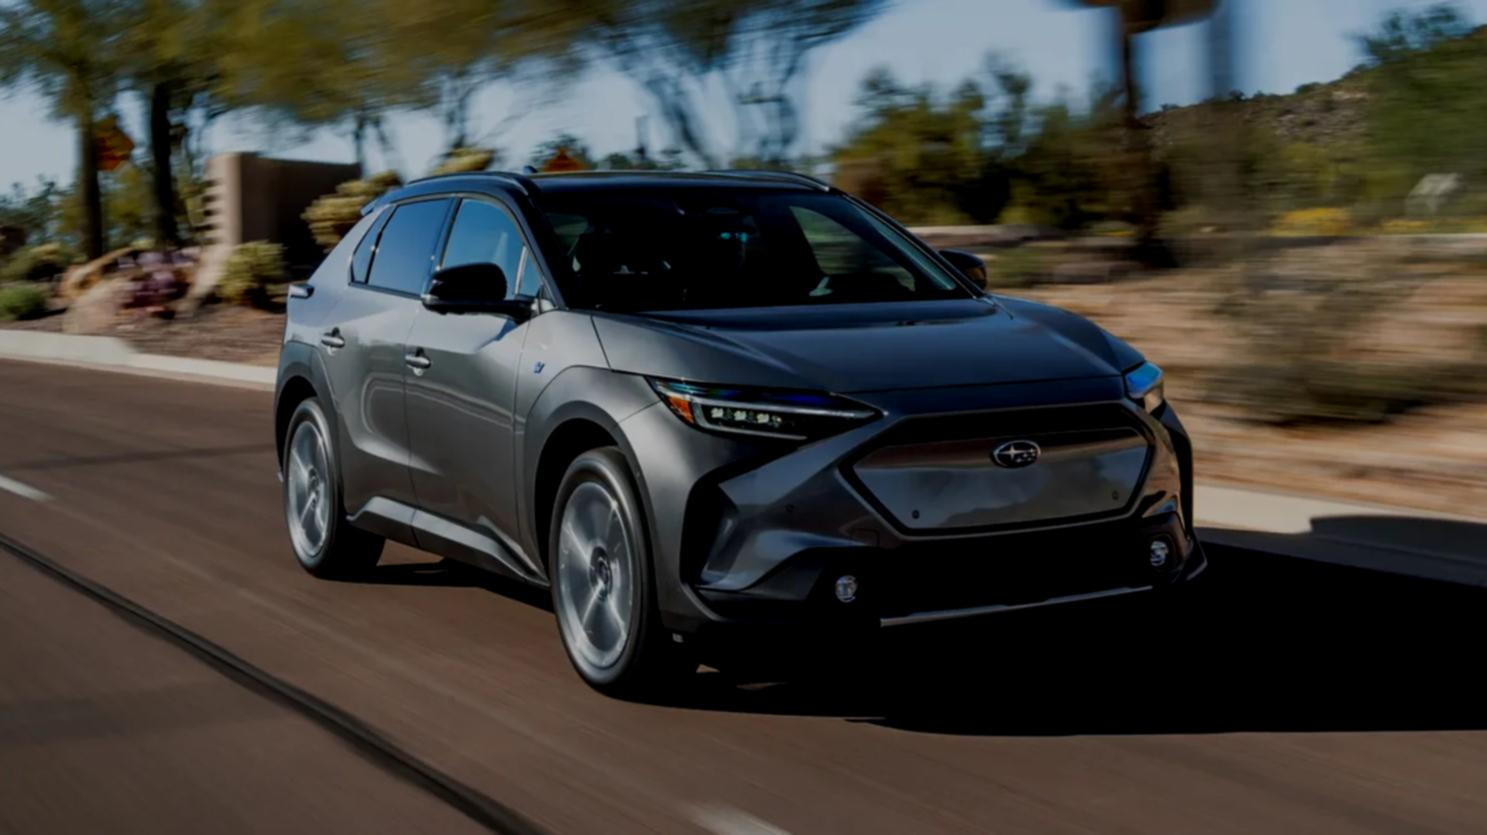subaru: (987, 431, 1063, 476)
